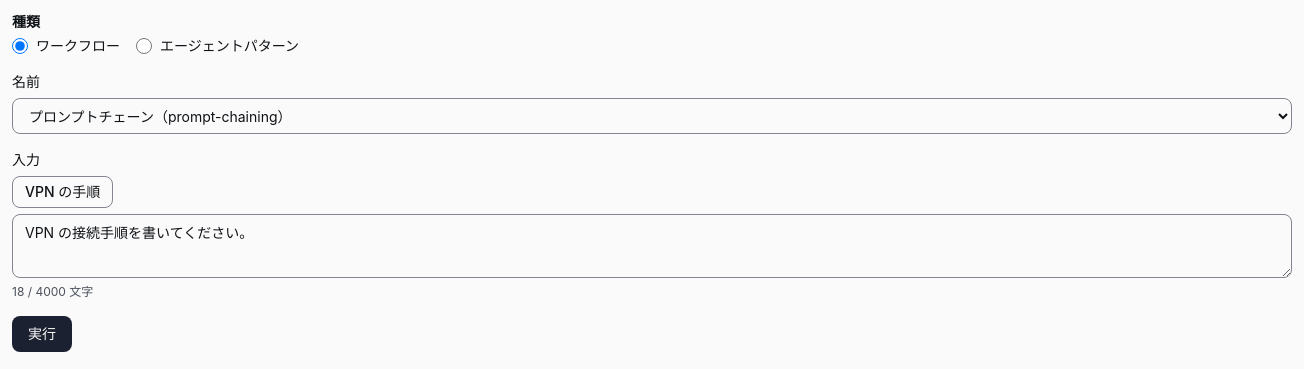
it: WorkflowPanel selection › offers every sample of the name and puts the chosen one into the input
Select "ルーティング（routing）" in the dropdown labelled "名前" at (652, 116), box [12, 98, 1292, 134]
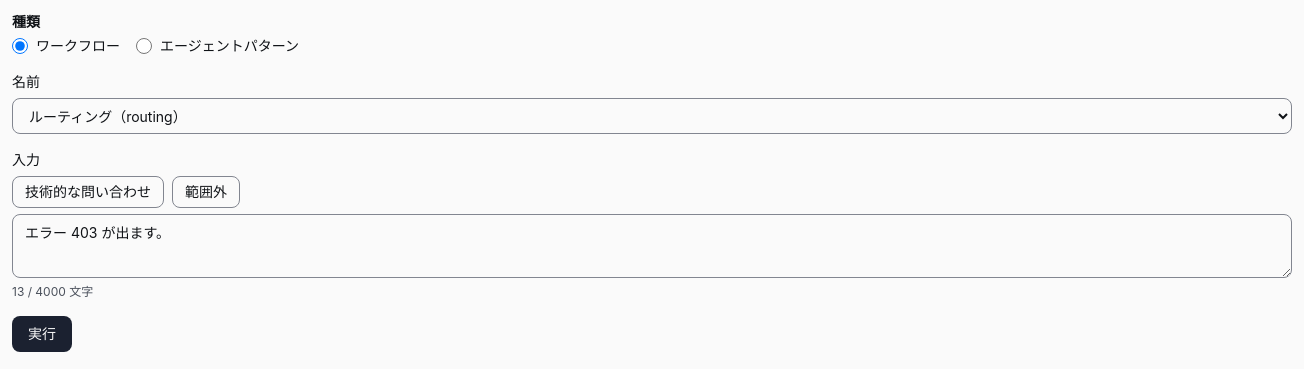
Click the button "範囲外".
click(206, 192)  # box [172, 176, 240, 208]
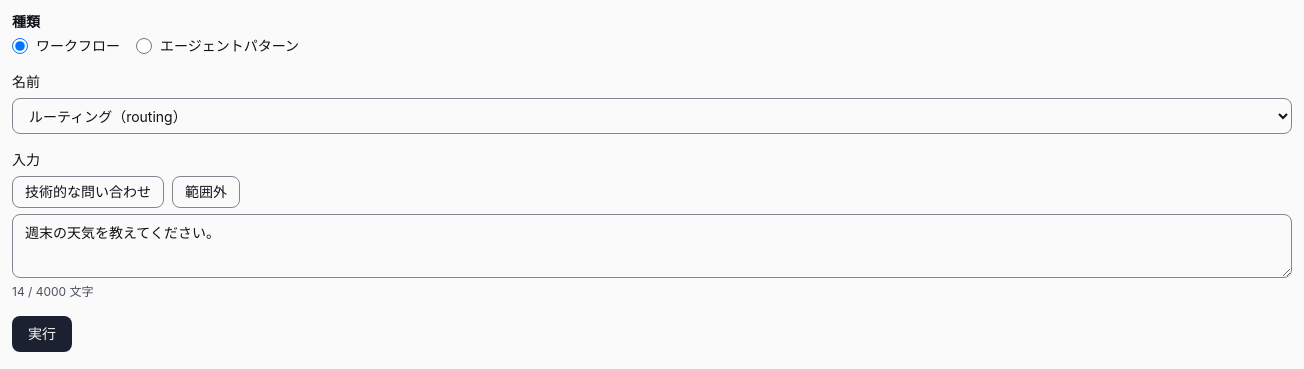
Now the text box labelled "入力" holds "週末の天気を教えてください。", box [12, 214, 1292, 278]
